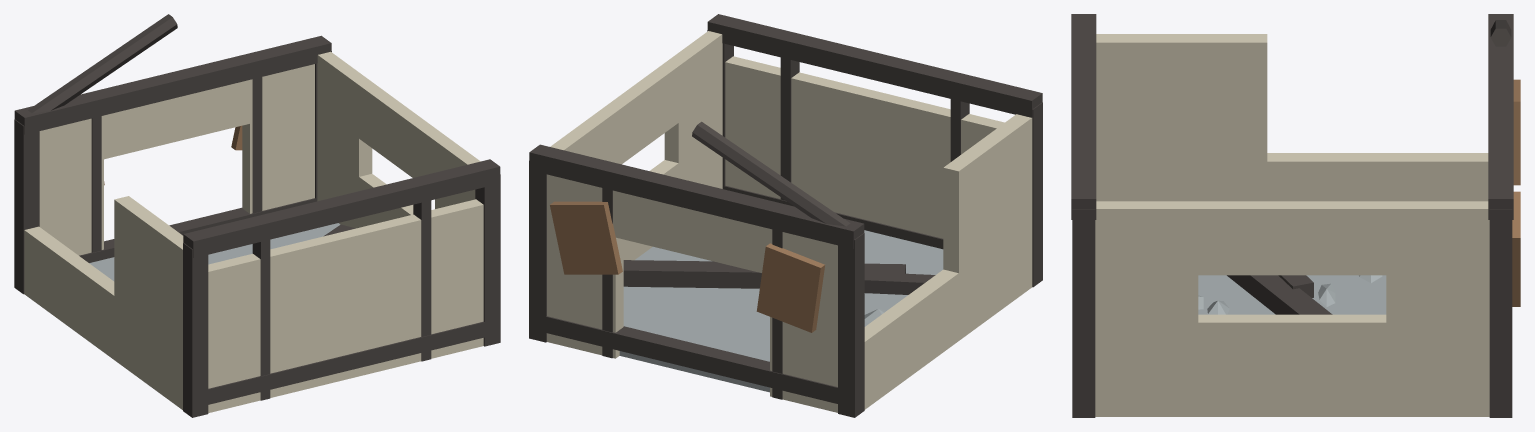
Rendered from house_burned_hut.glb.
3 renders of one model, left to right at view 1: azimuth 30°, elevation 25°; view 2: azimuth 150°, elevation 25°; view 3: azimuth 270°, elevation 25°, orthographic. The views are drawn at different scales.
Parts seen in each view (by area): view 1: house_burned_hut; view 2: house_burned_hut; view 3: house_burned_hut.
Part boxes in pixels (<box>): house_burned_hut: <box>14,14,500,417</box>; house_burned_hut: <box>529,14,1042,417</box>; house_burned_hut: <box>1071,14,1520,417</box>.
Size of the model in its own units: 4.22 by 3.12 by 4.31.
